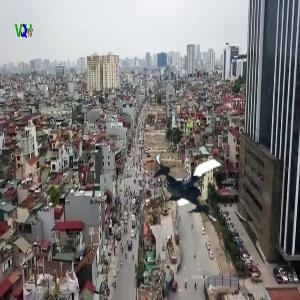drone: (147, 143, 235, 231)
